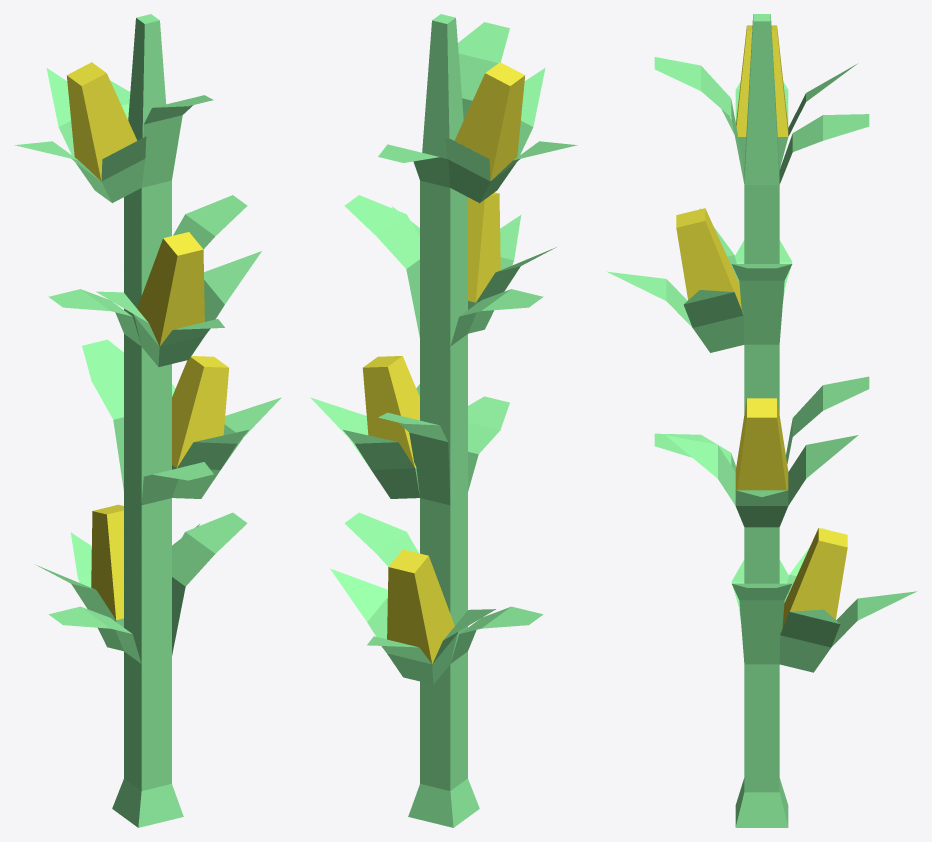
The model's file is 05_corn.fbx.
3 views of the same model, side by side, from view 1: azimuth 30°, elevation 25°; view 2: azimuth 150°, elevation 25°; view 3: azimuth 270°, elevation 25° (orthographic).
Parts seen in each view (by area): view 1: crops_cornStageD, corn (×4); view 2: crops_cornStageD, corn (×4); view 3: crops_cornStageD, corn (×4).
Boxes of the visible parts, box(x1,y1,x2,y2) form: crops_cornStageD: box(48, 14, 247, 827); corn (×4): box(14, 62, 281, 651); crops_cornStageD: box(344, 14, 543, 827); corn (×4): box(310, 62, 577, 684); crops_cornStageD: box(654, 14, 869, 827); corn (×4): box(607, 25, 916, 672).
Bounding box in the file's own units: 4.42 × 12.5 × 4.42.
